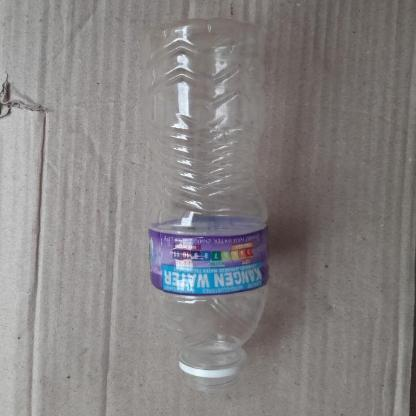Plastic Bottle: (145, 20, 269, 396)
